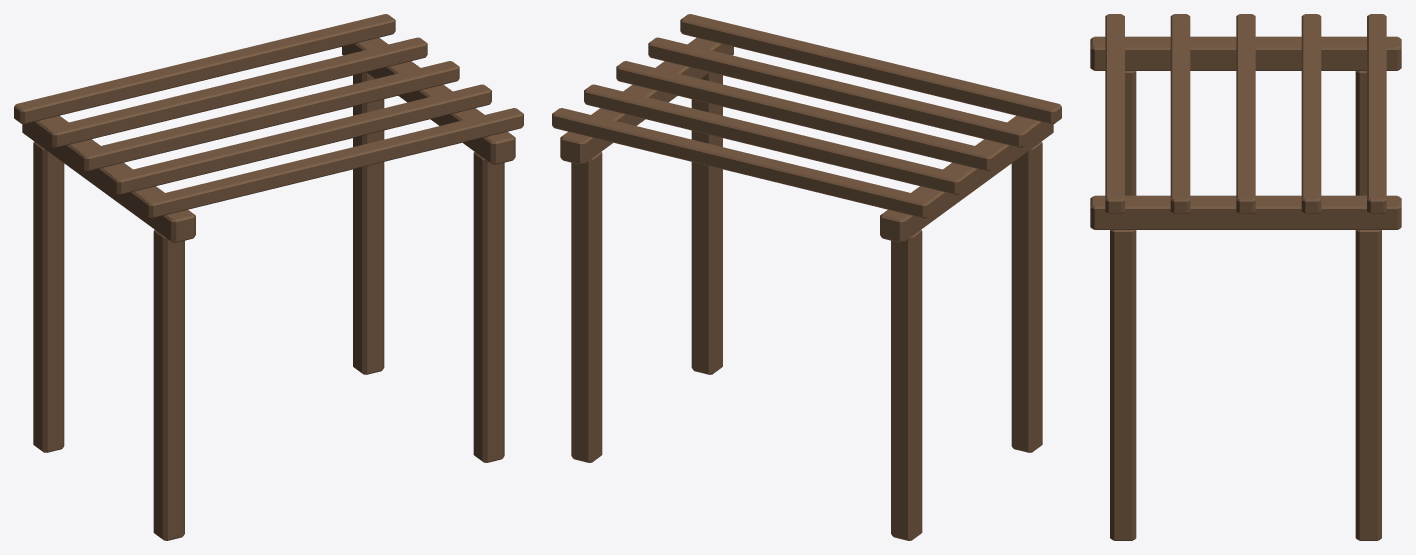
File: pergola.glb
3 renders of one model, left to right at view 1: azimuth 30°, elevation 25°; view 2: azimuth 150°, elevation 25°; view 3: azimuth 270°, elevation 25°, orthographic.
Parts seen in each view (by area): view 1: pergola__body; view 2: pergola__body; view 3: pergola__body.
Boxes of the visible parts, x1,y1,x2,y2 form: pergola__body: [14, 14, 523, 540]; pergola__body: [552, 14, 1061, 540]; pergola__body: [1090, 14, 1401, 540].
Size of the model in its own units: 2.7 by 2.36 by 1.9.
